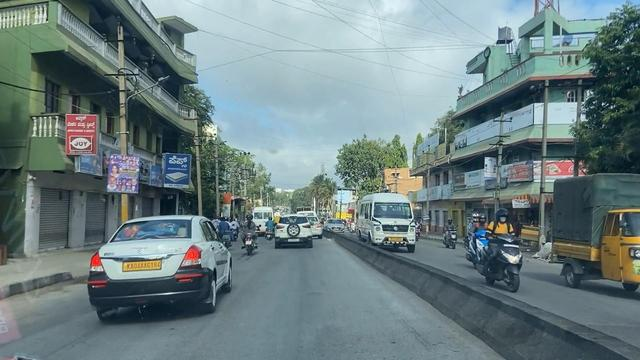LMV: (89, 217, 232, 324), (275, 215, 312, 248), (245, 216, 255, 257)
